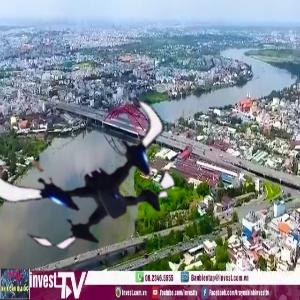drone: (6, 86, 192, 272)
